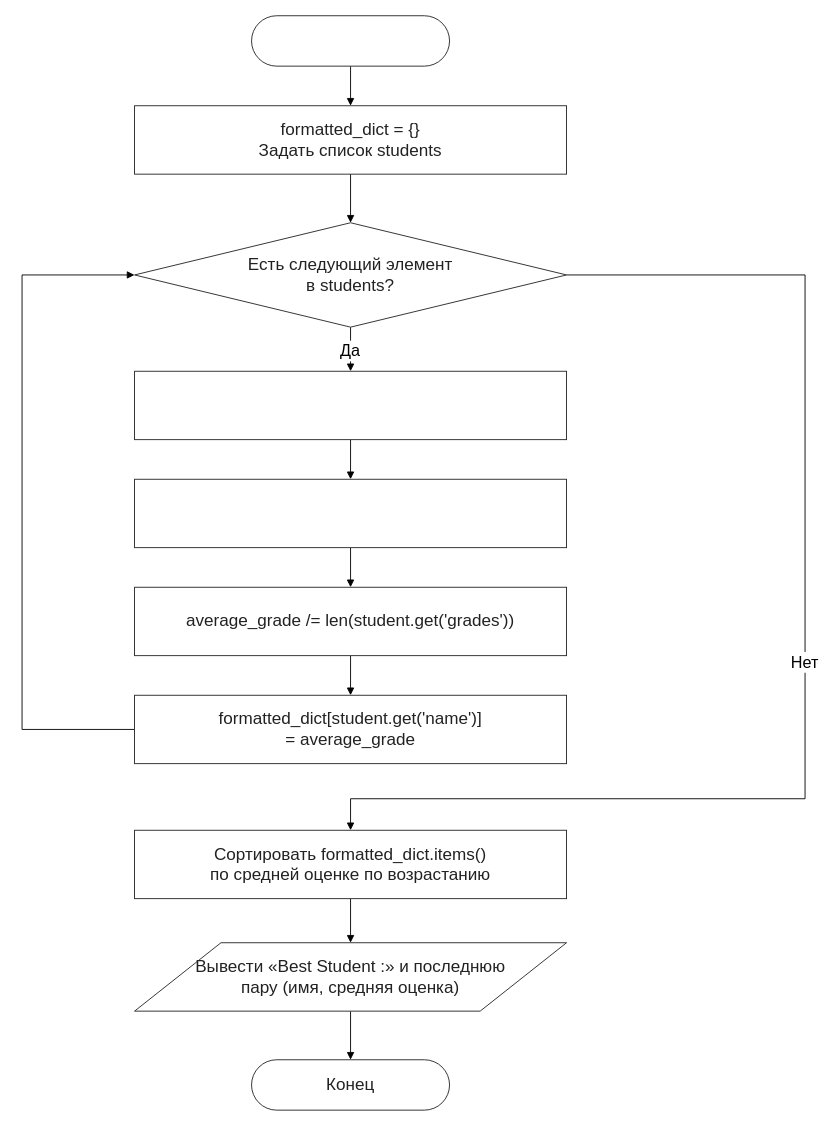
Some shapes in this 835 by 1126 pixel diagram are drawn without their labels. The shapes that lost their labels are listed below. From the top down, each one's box as (x1, y1, x2, y2) in pixels, then its label:
(251, 15, 450, 66): Начало
(134, 370, 567, 440): student = следующий элемент students
(134, 478, 567, 548): average_grade = sum(student.get('grades'))
